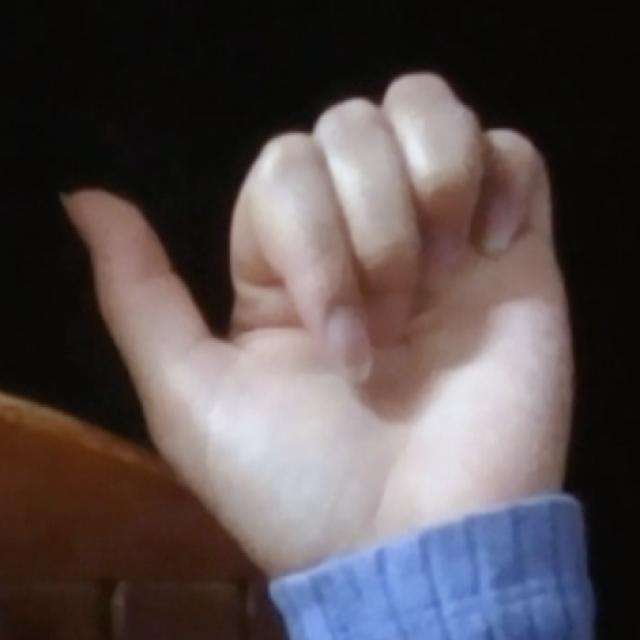A: (36, 46, 586, 566)
